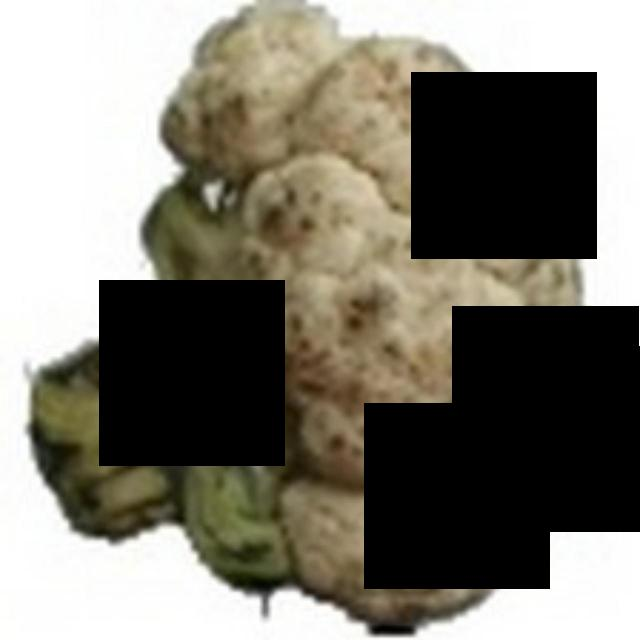cauliflower: (17, 0, 611, 637)
